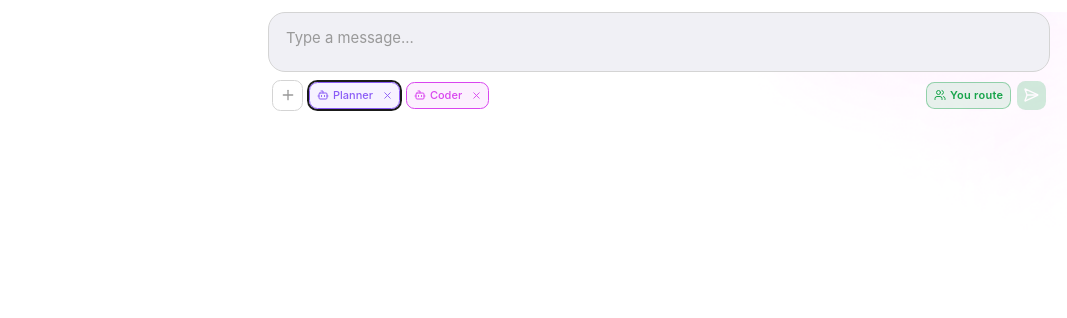
Scenario: the agent chip menu › opens the uploads folder, and shows main's reason in place when there is none yet
Right-click the element showing "Coder".
right_click(448, 95)  # box [406, 82, 489, 109]
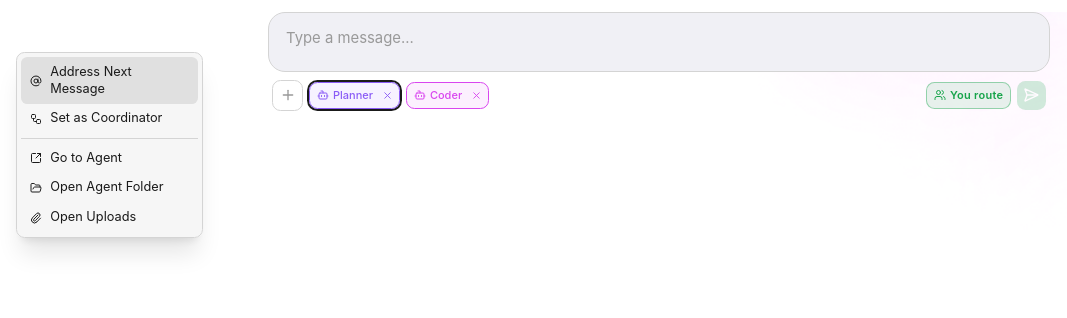
Click the menu item "Open Uploads".
click(110, 218)  # box [21, 203, 198, 232]
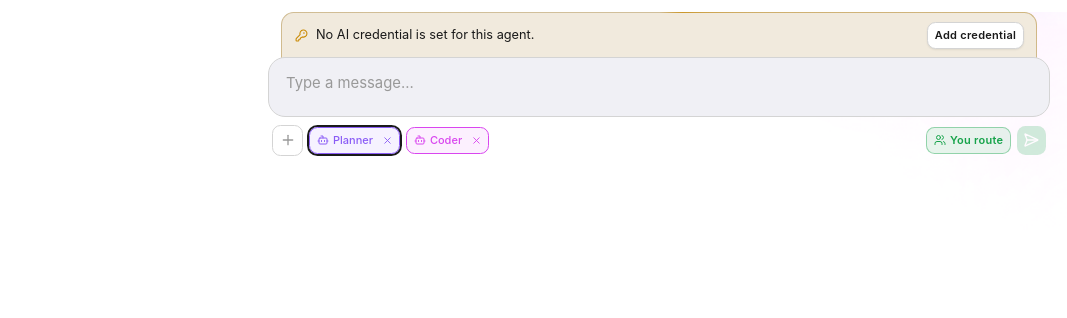
Expected: the menu is gone
Right-click the element showing "Coder".
right_click(448, 140)  # box [406, 127, 489, 154]
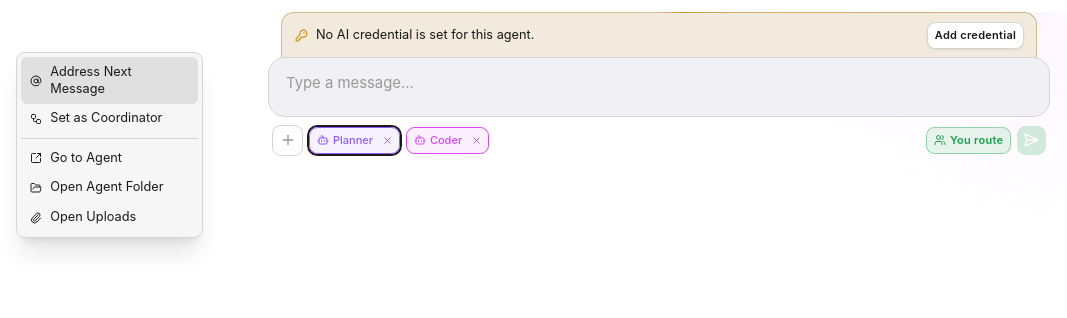
Click the menu item "Open Uploads".
click(110, 218)  # box [21, 203, 198, 232]
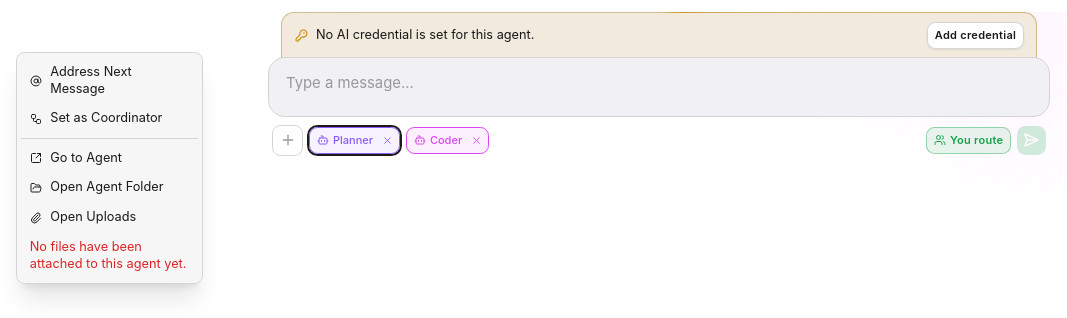
Expected: the menu named "Agent Coder" is shown, [16, 52, 203, 284]
Expected: the message "No files have been attached to this agent yet." is shown, [21, 232, 198, 279]
